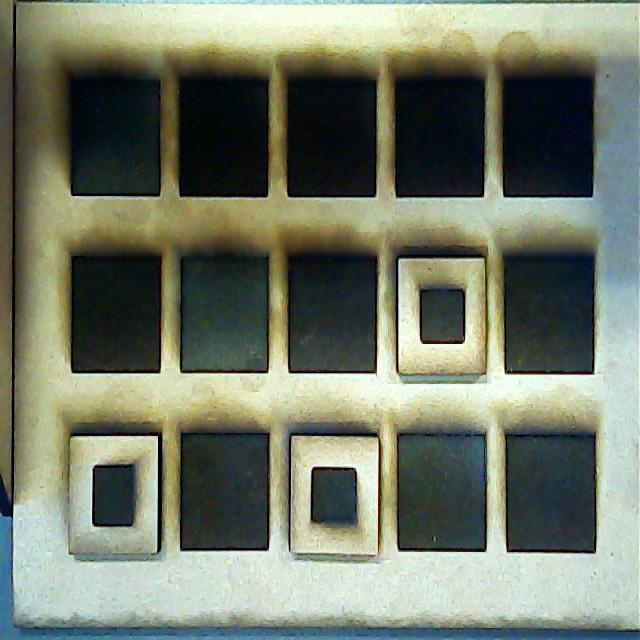square: (286, 429, 387, 558), (67, 429, 162, 559), (399, 249, 489, 377)
